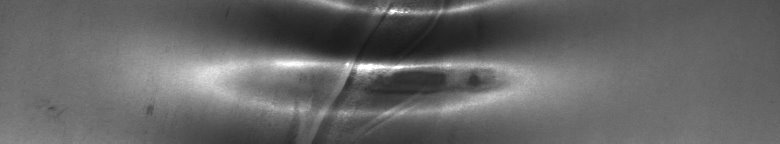ke: (147, 4, 536, 136)
